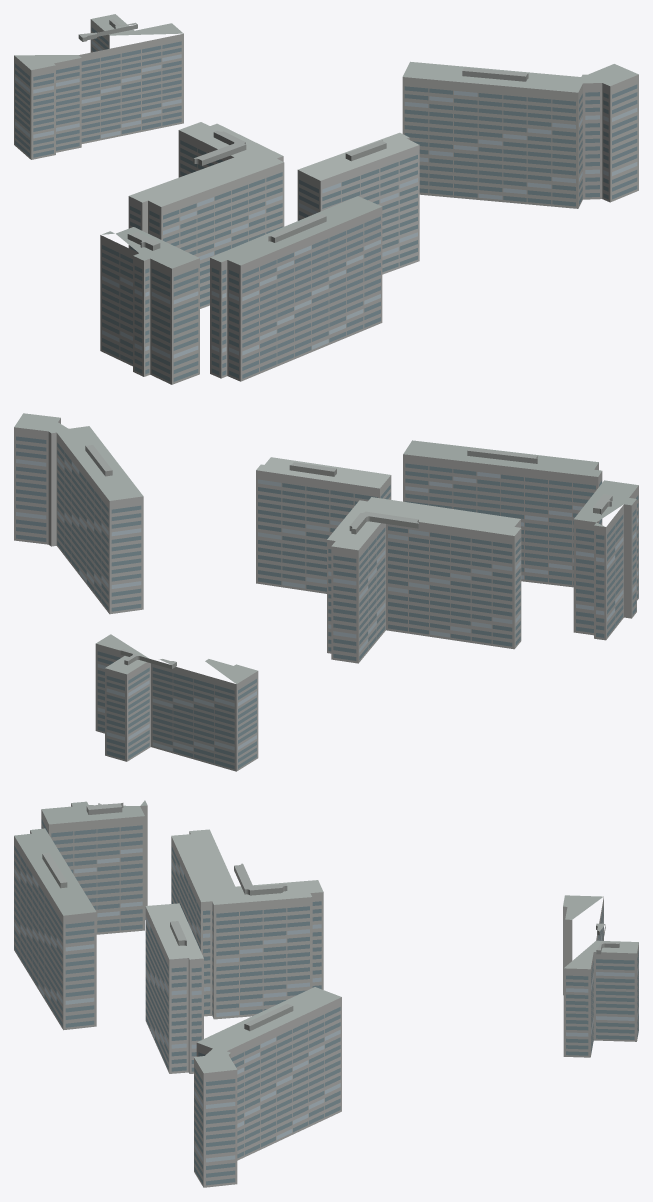
The model's file is apt-a12208205.glb.
3 renders of one model, top to bottom at view 1: azimuth 30°, elevation 25°; view 2: azimuth 150°, elevation 25°; view 3: azimuth 270°, elevation 25°, orthographic. The views are drawn at different scales.
Visible parts, largest first — view 1: apt-a12208205; view 2: apt-a12208205; view 3: apt-a12208205.
Part boxes in pixels (x1,y1,x2,y2): apt-a12208205: (14, 14, 638, 384); apt-a12208205: (14, 413, 638, 771); apt-a12208205: (14, 800, 638, 1187).
Size of the model in its own units: 234 by 47.81 by 226.
